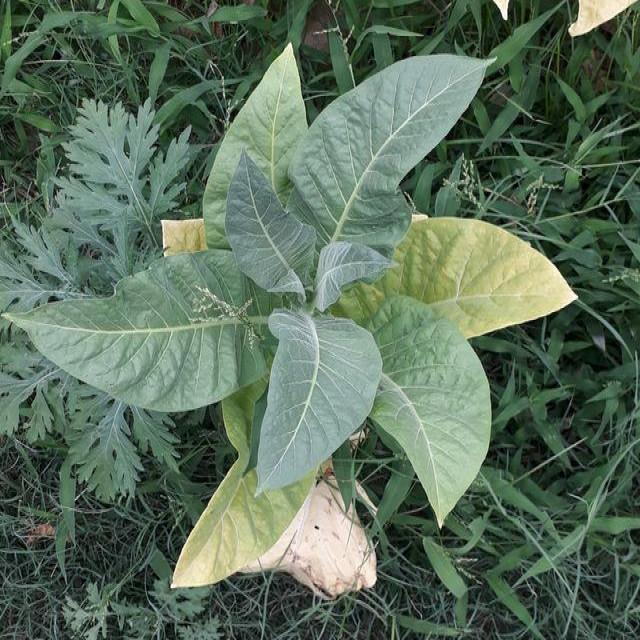crop: (11, 43, 578, 609)
